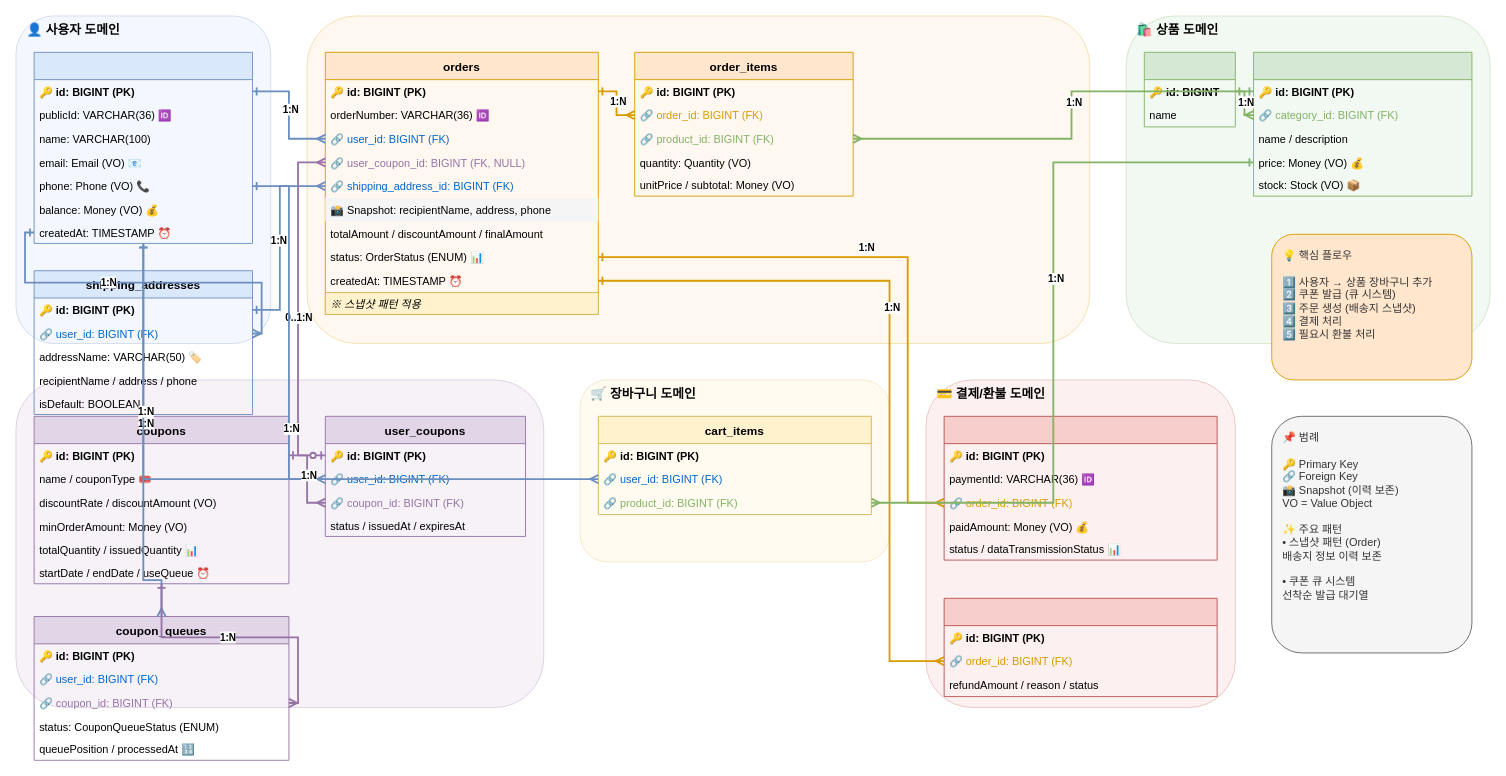
Image size: 1506x776. Some labels were removed from this diagram. The box of each missing label's shape, as (x1, y1, x2, y2) in pixels:
categories: (1143, 51, 1235, 127)
payments: (943, 415, 1217, 560)
products: (1253, 51, 1472, 196)
refunds: (943, 597, 1217, 697)
users: (33, 51, 253, 243)
🎟️ 쿠폰 도메인: (15, 379, 544, 708)
📦 주문 도메인: (306, 15, 1090, 344)
